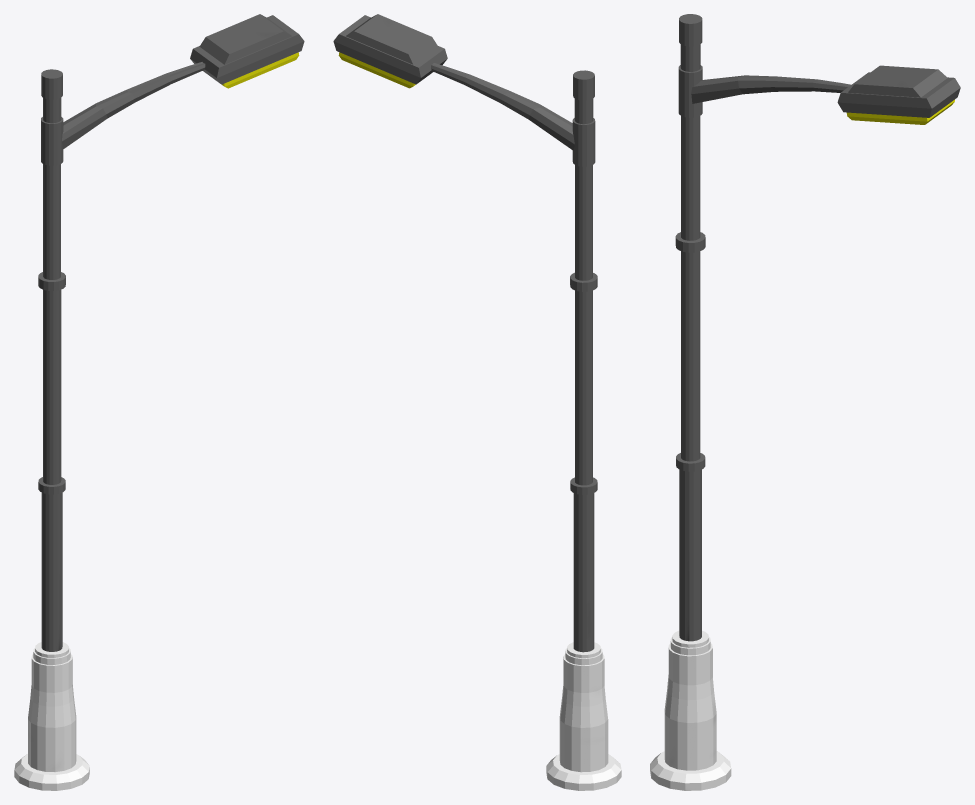
Rendered from Postes.fbx.
3 views of the same model, side by side, from view 1: azimuth 30°, elevation 25°; view 2: azimuth 150°, elevation 25°; view 3: azimuth 330°, elevation 25° (orthographic). The views are drawn at different scales.
Parts seen in each view (by area): view 1: Poste; view 2: Poste; view 3: Poste.
Boxes of the visible parts, bbox=[...] form: Poste: bbox=[14, 14, 304, 790]; Poste: bbox=[333, 14, 621, 790]; Poste: bbox=[650, 14, 960, 790].
Size of the model in its own units: 175 by 433 by 42.54.
1 material, 1 textured.
